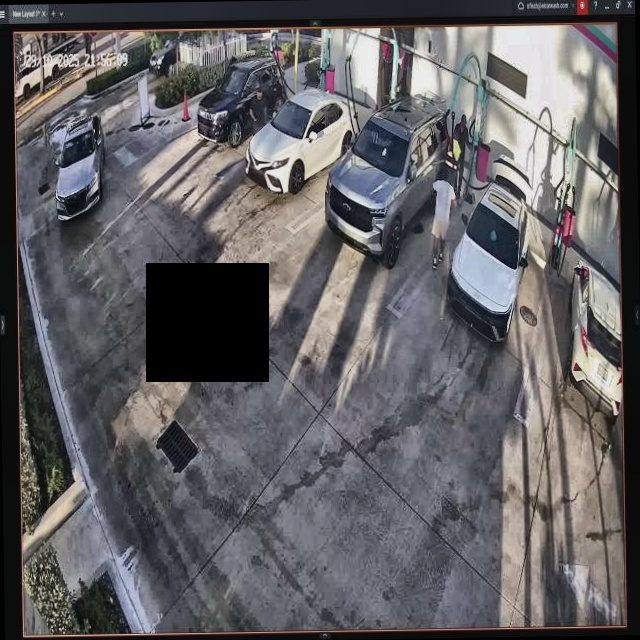Car: (323, 95, 452, 270), (440, 150, 530, 339), (245, 89, 359, 195), (189, 57, 288, 145)
